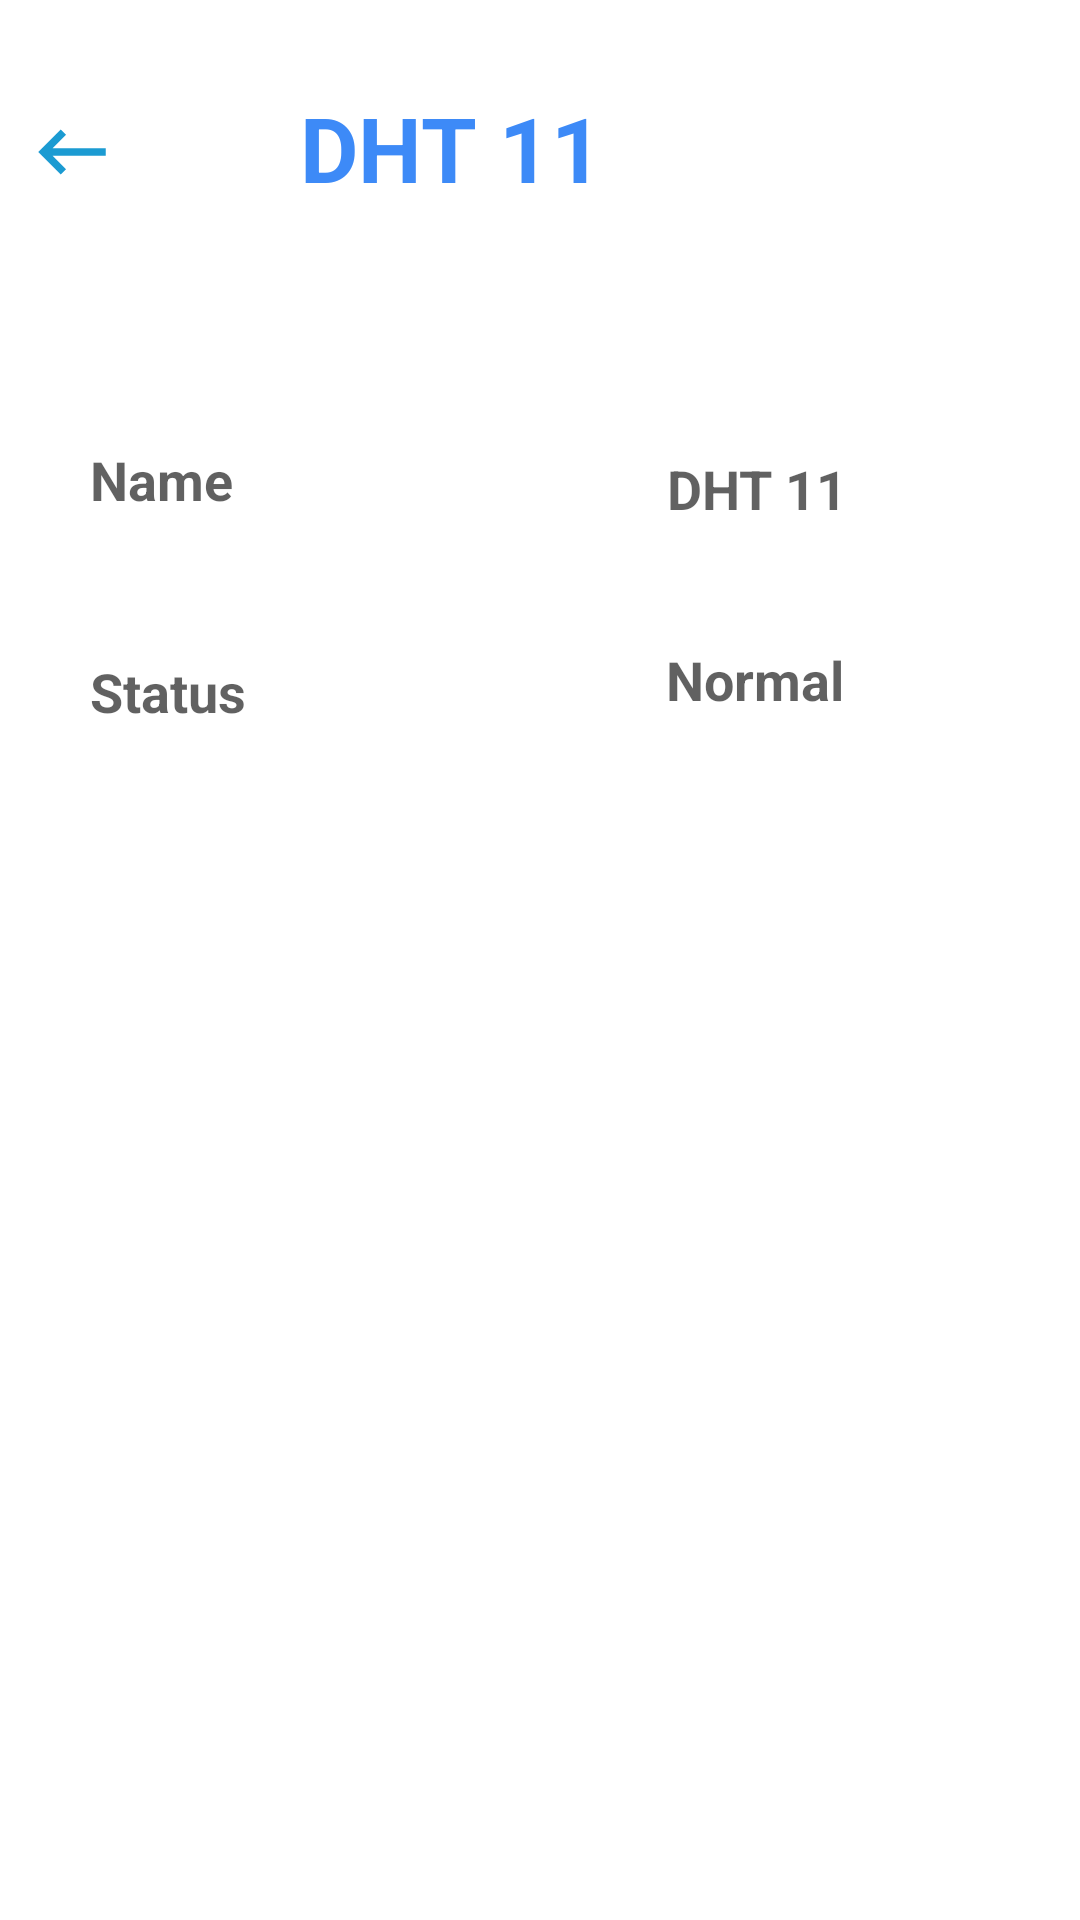

Where to tap for icons on this 1080px×1920px app screen, as (x,y):
keyboard backspace: (72,152)
